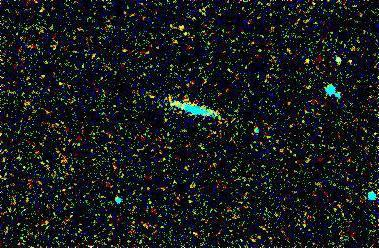star: (296, 49, 326, 79)
